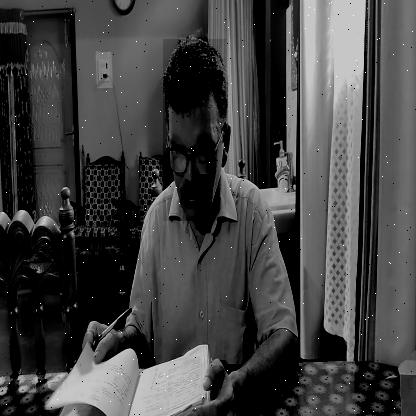Normal: (163, 39, 226, 221)
